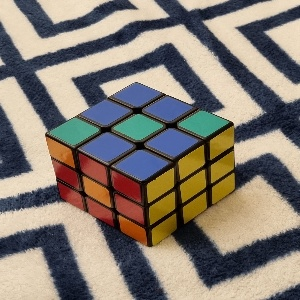cube: (44, 82, 236, 248)
